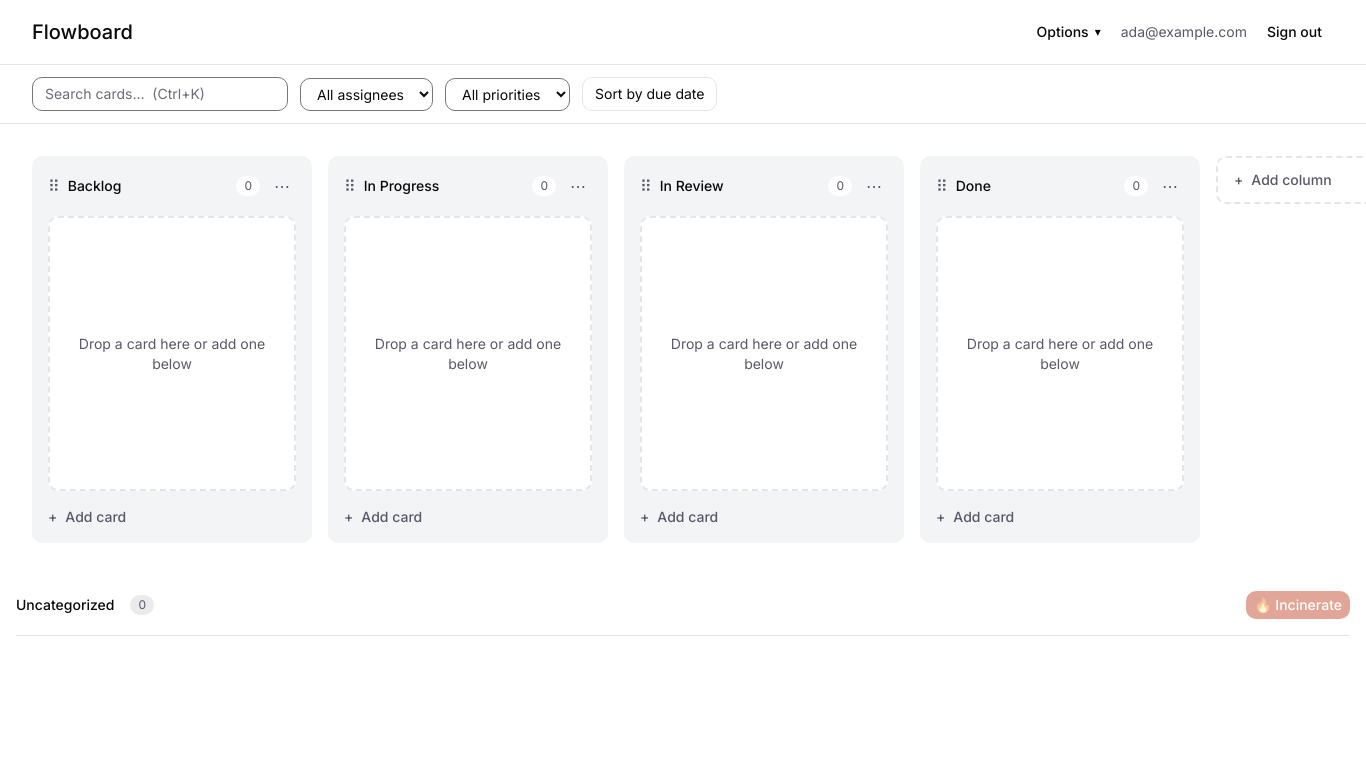
Test case: Board: creating cards › shows an error toast when the insert fails
Click the button "+ Add card" below "Backlog": (172, 517) [48,507,296,527]
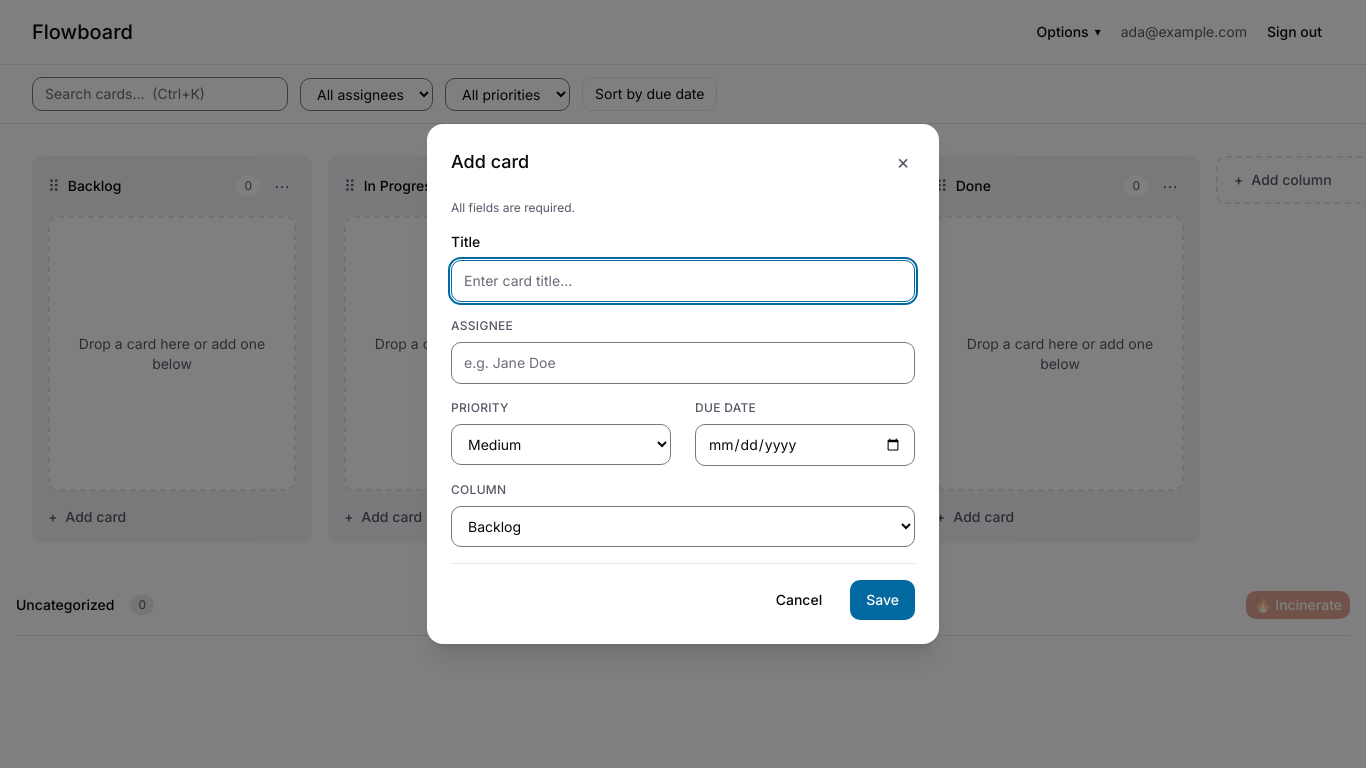
In the field labelled "Title": (683, 281) [451,260,915,302], type "Doomed"
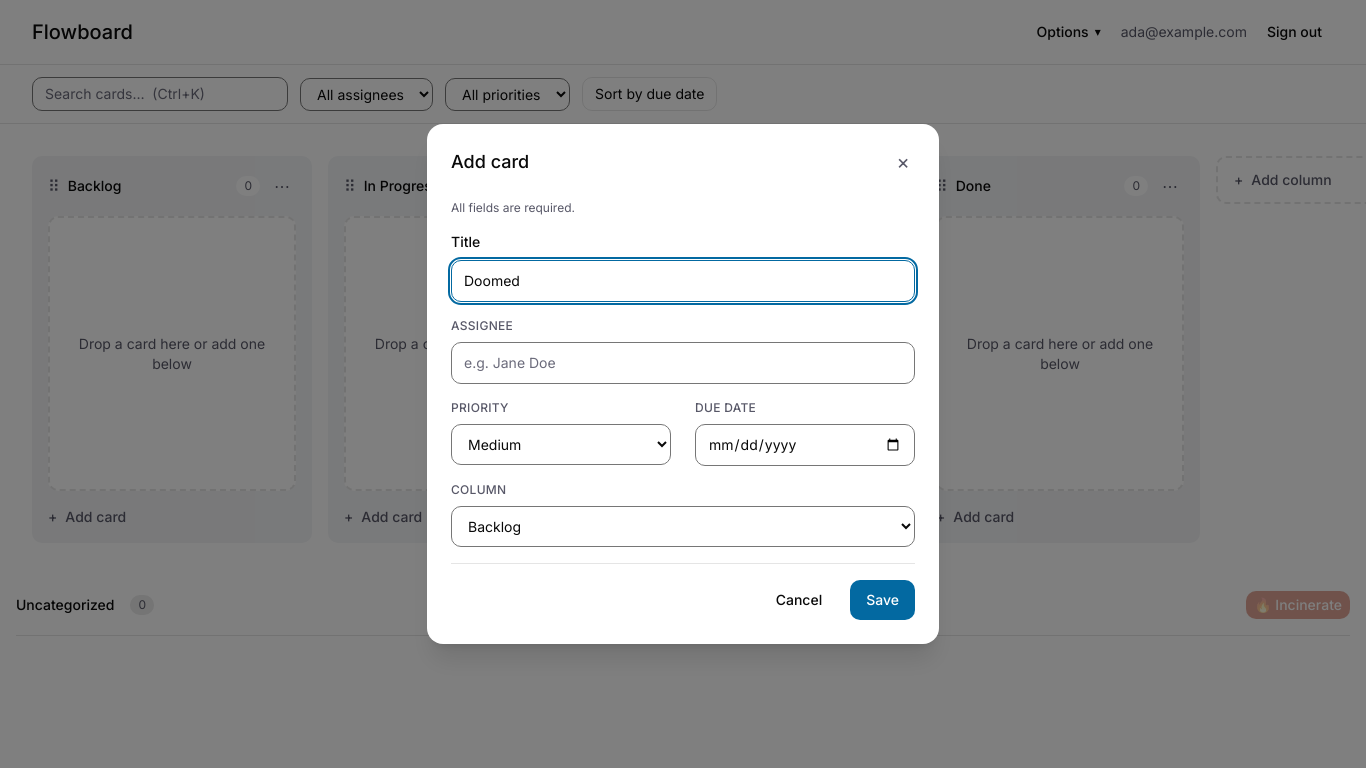
In the field labelled "Assignee": (683, 363) [451,342,915,384], type "Bo"
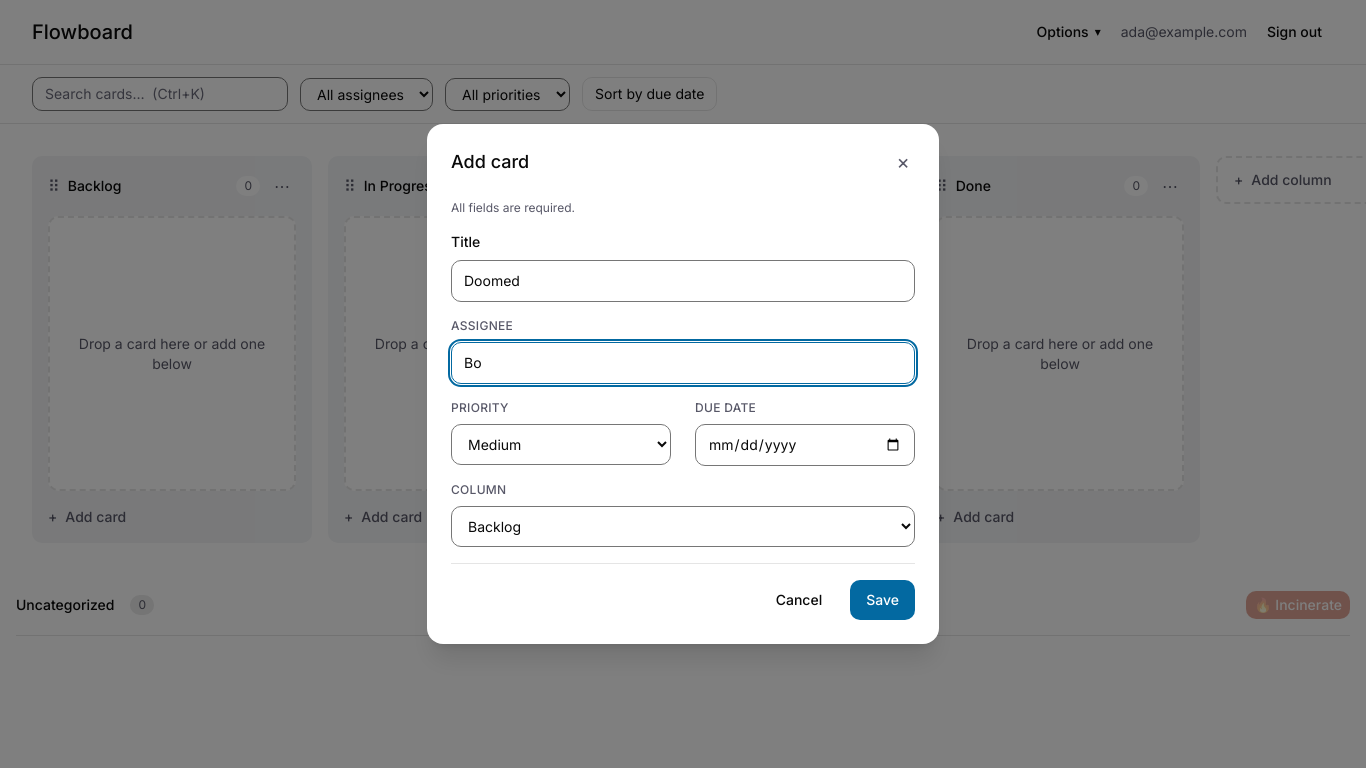
In the date field labelled "Due Date": (805, 445) [695,424,915,466], type "2030-03-03"
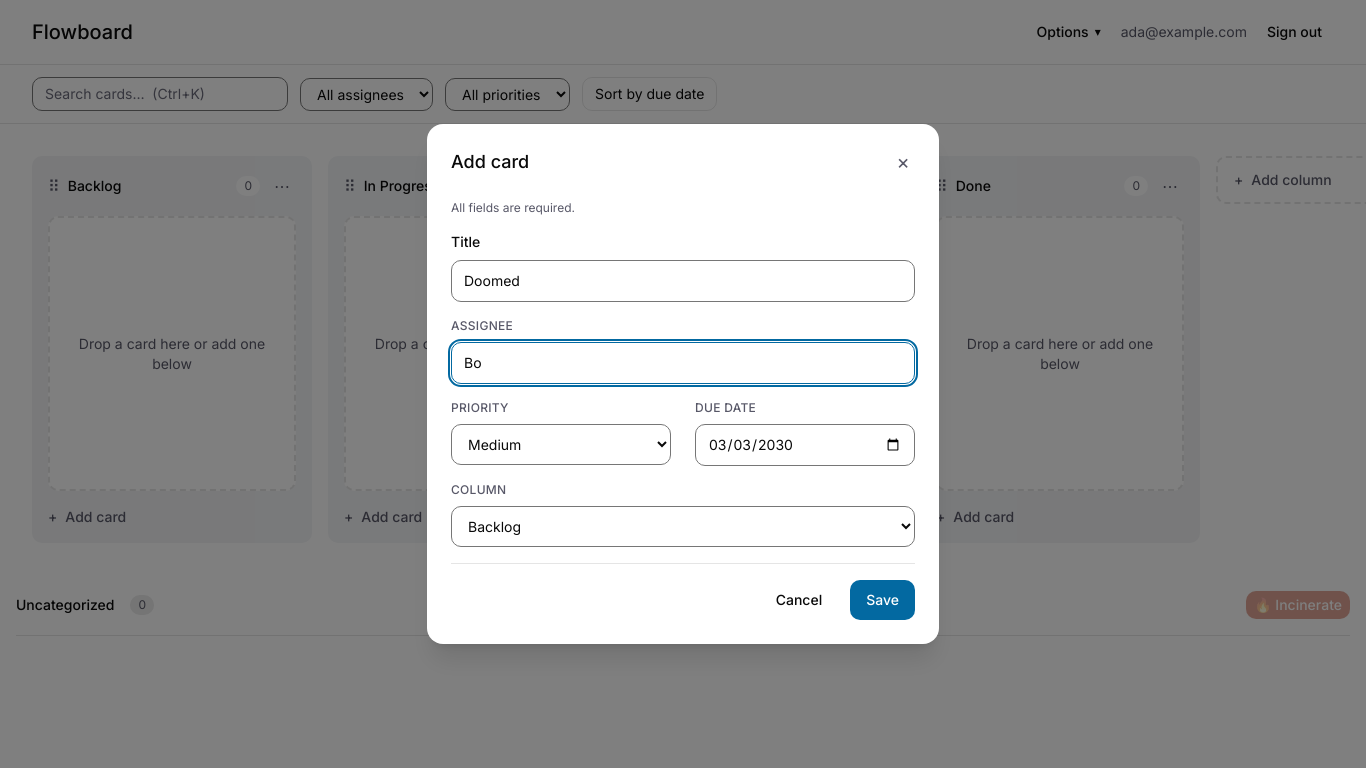
Click the button "Save": (883, 600) [850,580,915,620]
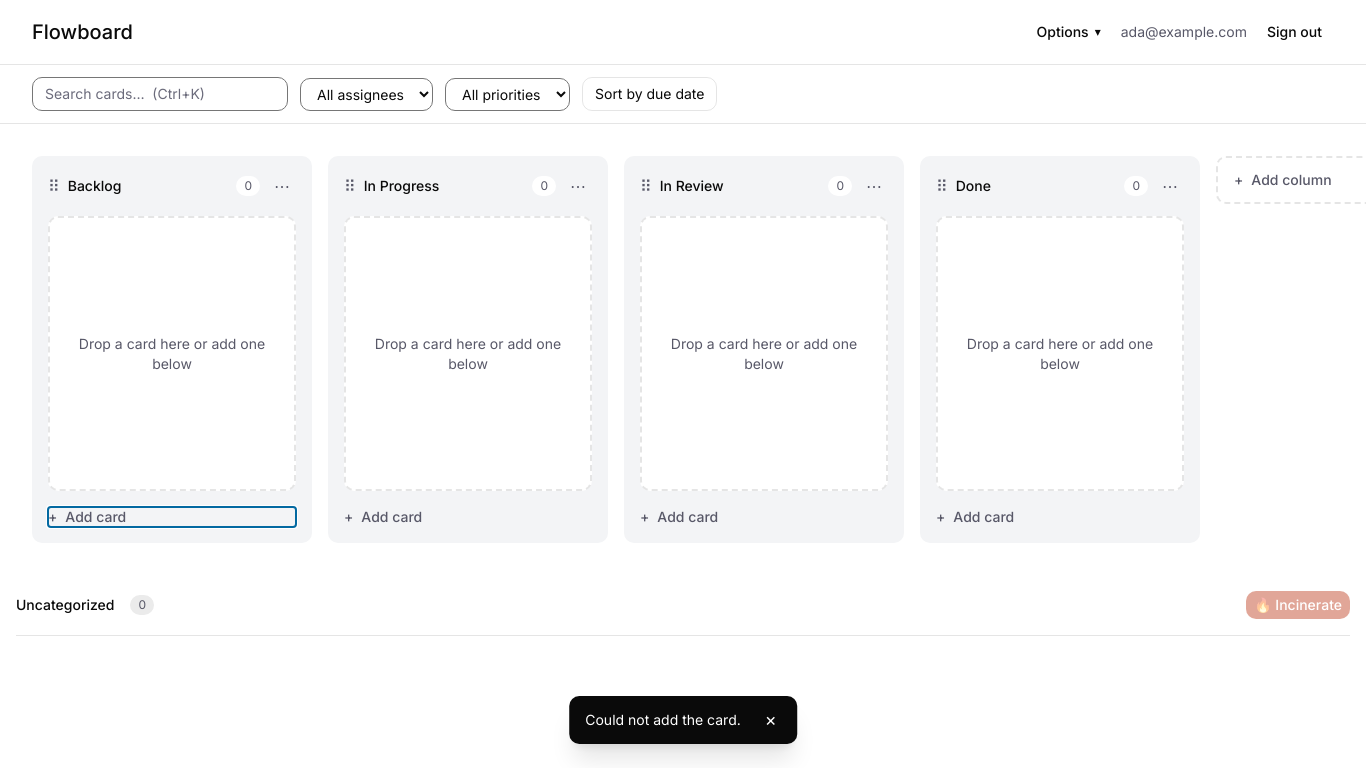
expect the text "Doomed" is not shown: met
expect the message shows "Could not add the card.": met, box [585,711,741,728]
